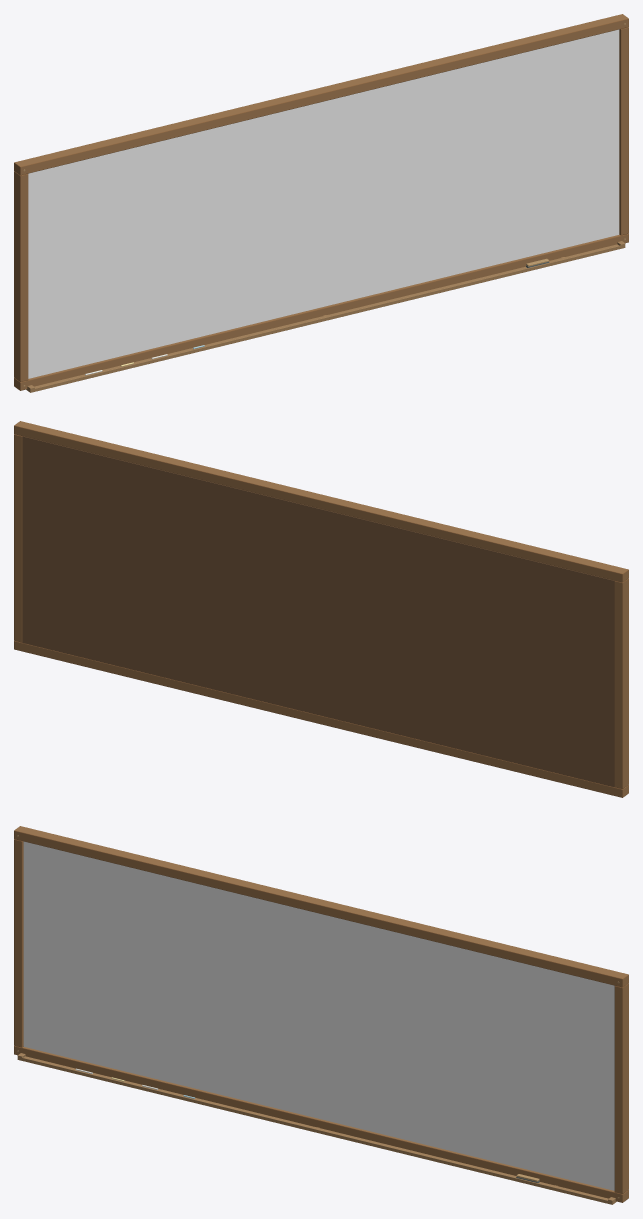
Rendered from chalkboard460-colors.glb.
The picture shows the model from 3 angles, top to bottom: view 1: azimuth 30°, elevation 25°; view 2: azimuth 150°, elevation 25°; view 3: azimuth 330°, elevation 25°; orthographic projection.
Parts seen in each view (by area): view 1: Chalkboard460_board, Chalkboard460_frame, Chalkboard460_tray; view 2: Chalkboard460_board, Chalkboard460_frame; view 3: Chalkboard460_board, Chalkboard460_frame, Chalkboard460_tray.
Part boxes in pixels (box(x1,y1,x2,y2)): Chalkboard460_board: box(28, 29, 619, 378); Chalkboard460_frame: box(14, 14, 628, 390); Chalkboard460_tray: box(26, 241, 625, 392); Chalkboard460_board: box(22, 436, 614, 787); Chalkboard460_frame: box(14, 421, 628, 797); Chalkboard460_board: box(23, 841, 614, 1190); Chalkboard460_frame: box(14, 826, 628, 1202); Chalkboard460_tray: box(17, 1053, 616, 1204).
Bounding box in the file's own units: 435 × 155 × 12.
